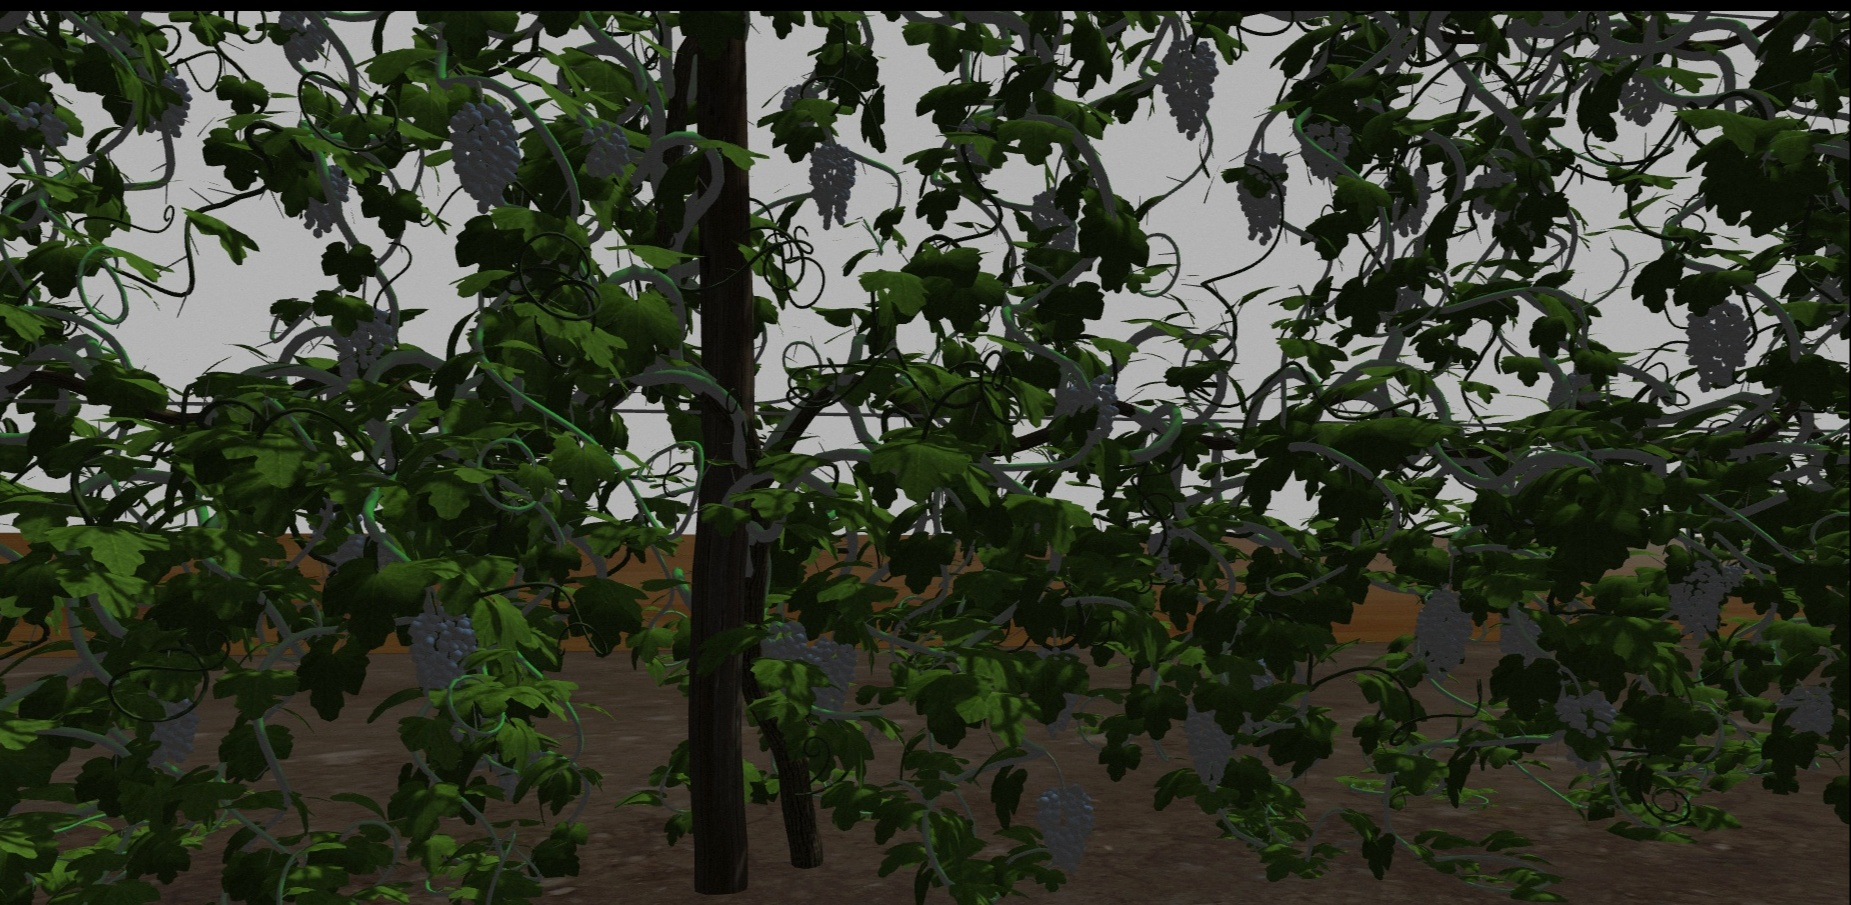grape: (449, 100, 519, 214), (1683, 296, 1749, 393), (1160, 40, 1221, 143), (408, 610, 473, 699), (1412, 586, 1472, 680), (1035, 783, 1094, 874), (1235, 152, 1289, 245), (331, 306, 393, 382), (1667, 563, 1725, 642), (1183, 702, 1232, 792), (142, 693, 201, 765), (807, 145, 856, 232), (1062, 374, 1121, 441), (301, 164, 349, 238), (1613, 60, 1664, 129), (807, 641, 856, 709), (1031, 186, 1077, 256), (1299, 118, 1349, 181), (1778, 684, 1834, 737), (578, 124, 629, 182), (9, 101, 68, 150), (1554, 691, 1610, 737), (277, 13, 329, 63), (759, 622, 807, 665)
